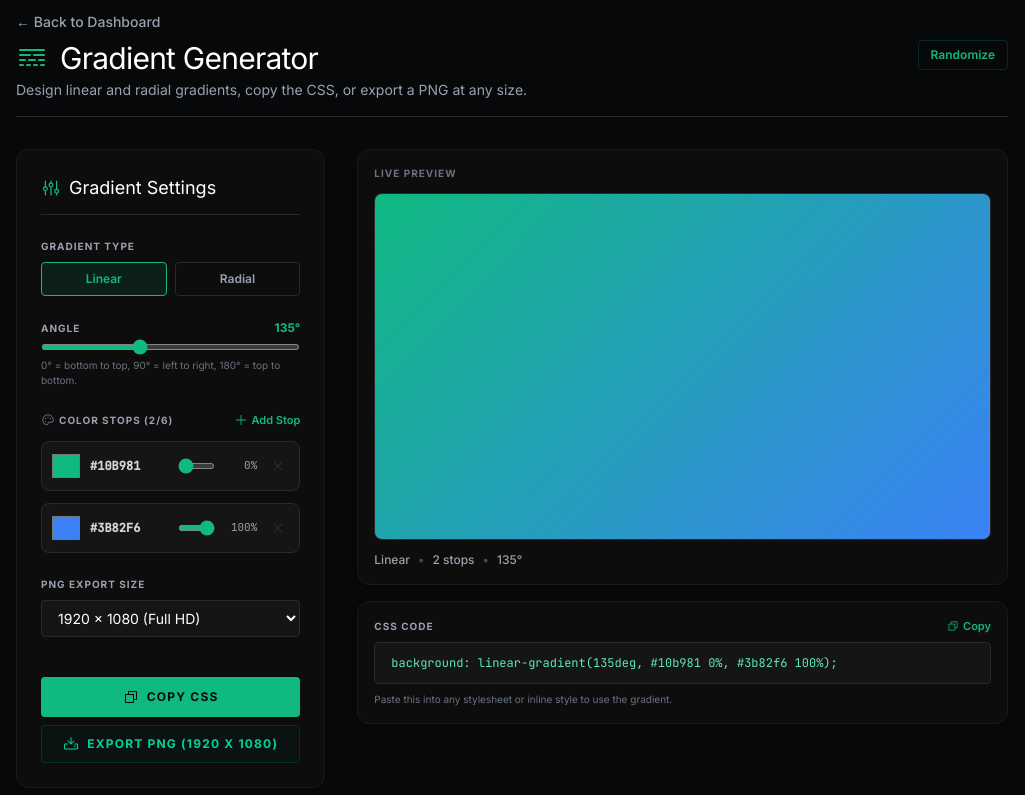
Test: gradient-generator component › updates the angle and the CSS when the angle slider moves
Set the slider labelled "Angle" to "90". click: point(110, 347)
box: [41,344,300,350]
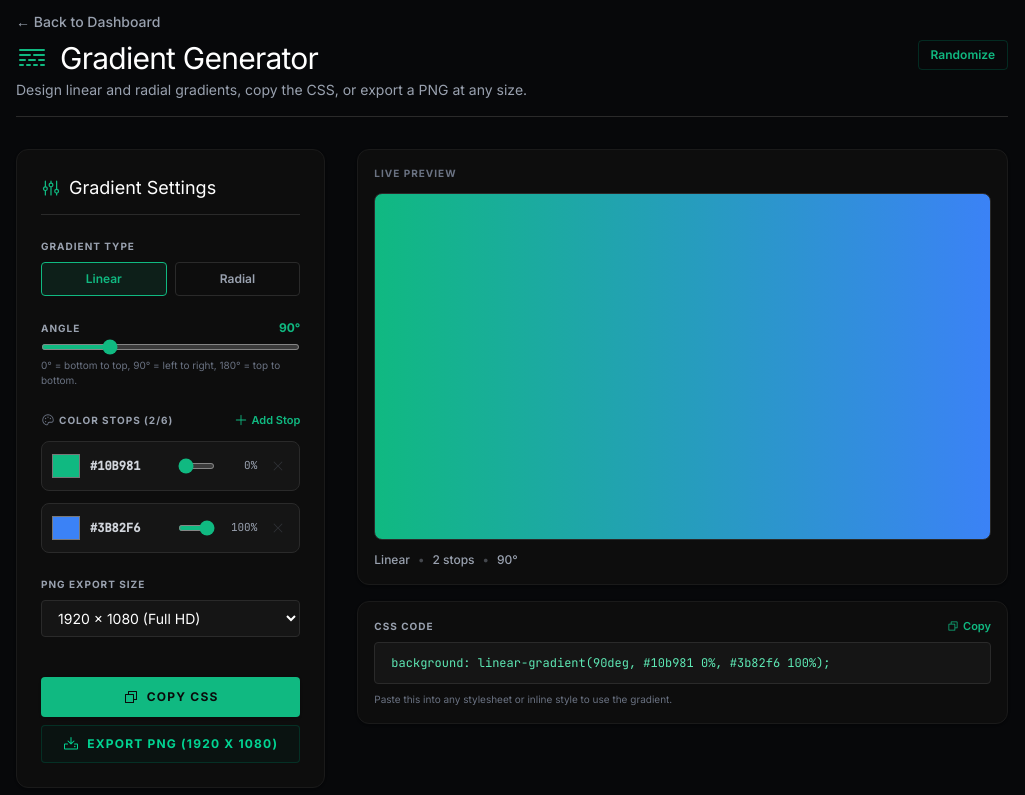
Result: the text with test id "gradient-css" shows "linear-gradient(90deg," at [391,655,830,671]
